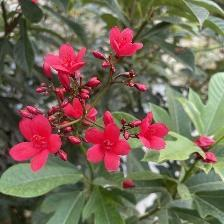jatropha: (10, 115, 65, 174), (84, 124, 134, 174), (44, 43, 90, 76), (105, 24, 146, 61), (139, 113, 172, 153)
